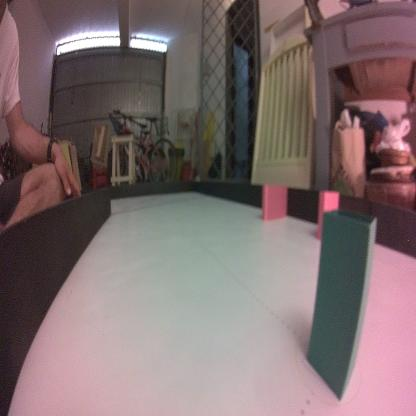magenta: (260, 182, 287, 222)
